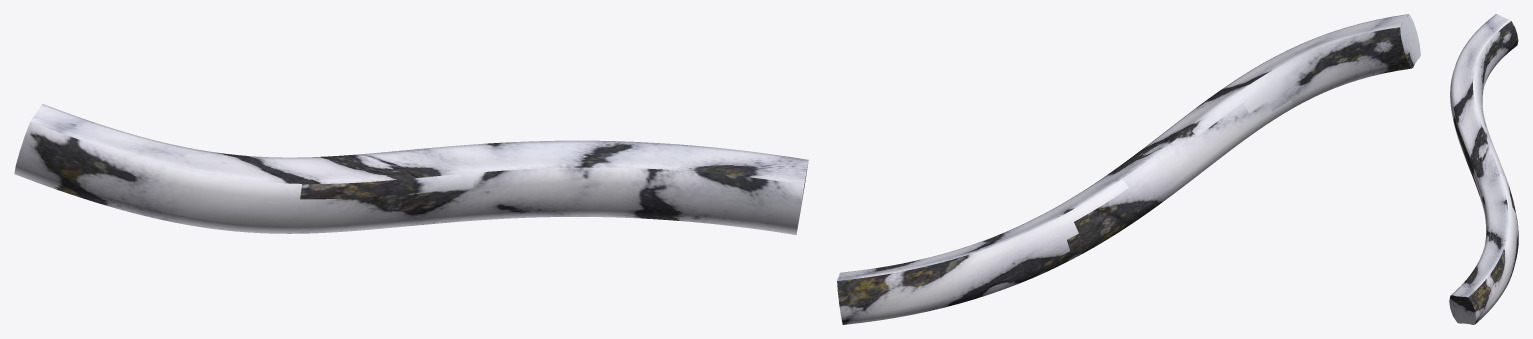
File: camino.glb
3 views of the same model, side by side, from view 1: azimuth 30°, elevation 25°; view 2: azimuth 210°, elevation 25°; view 3: azimuth 270°, elevation 25° (orthographic). The views are drawn at different scales.
Visible parts, largest first — view 1: NurbsPath; view 2: NurbsPath; view 3: NurbsPath.
Boxes of the visible parts, <box> form: NurbsPath: <box>14,104,808,234</box>; NurbsPath: <box>837,14,1420,324</box>; NurbsPath: <box>1449,14,1518,324</box>.
Bounding box in the file's own units: 4.27 × 1.4 × 0.6712.
Materials: 1 (1 with a texture image).
